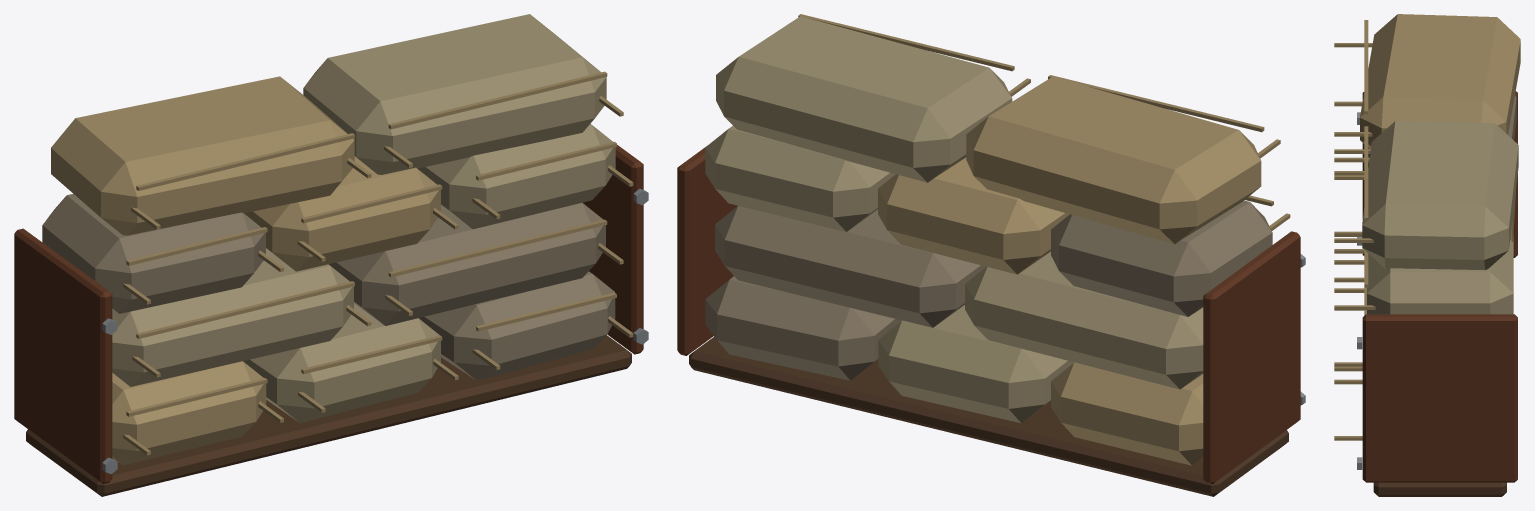
Rendered from piece_sandbag.fbx.
3 renders of one model, left to right at view 1: azimuth 30°, elevation 25°; view 2: azimuth 150°, elevation 25°; view 3: azimuth 270°, elevation 25°, orthographic. The views are drawn at different scales.
Visible parts, largest first — view 1: piece_sandbag; view 2: piece_sandbag; view 3: piece_sandbag.
Part boxes in pixels (left/top/right/bottom): piece_sandbag: left=14, top=14, right=648, bottom=496; piece_sandbag: left=677, top=14, right=1305, bottom=496; piece_sandbag: left=1334, top=14, right=1520, bottom=496.
Bounding box in the file's own units: 1.96 × 1.1 × 0.6733.
